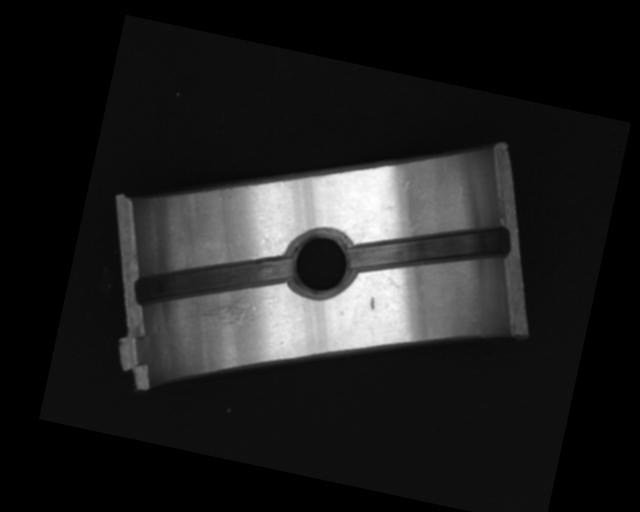bruise: (367, 296, 378, 312)
gap: (131, 226, 295, 334), (348, 199, 511, 299)
hole: (281, 224, 361, 302)
scratch: (182, 275, 273, 336)
